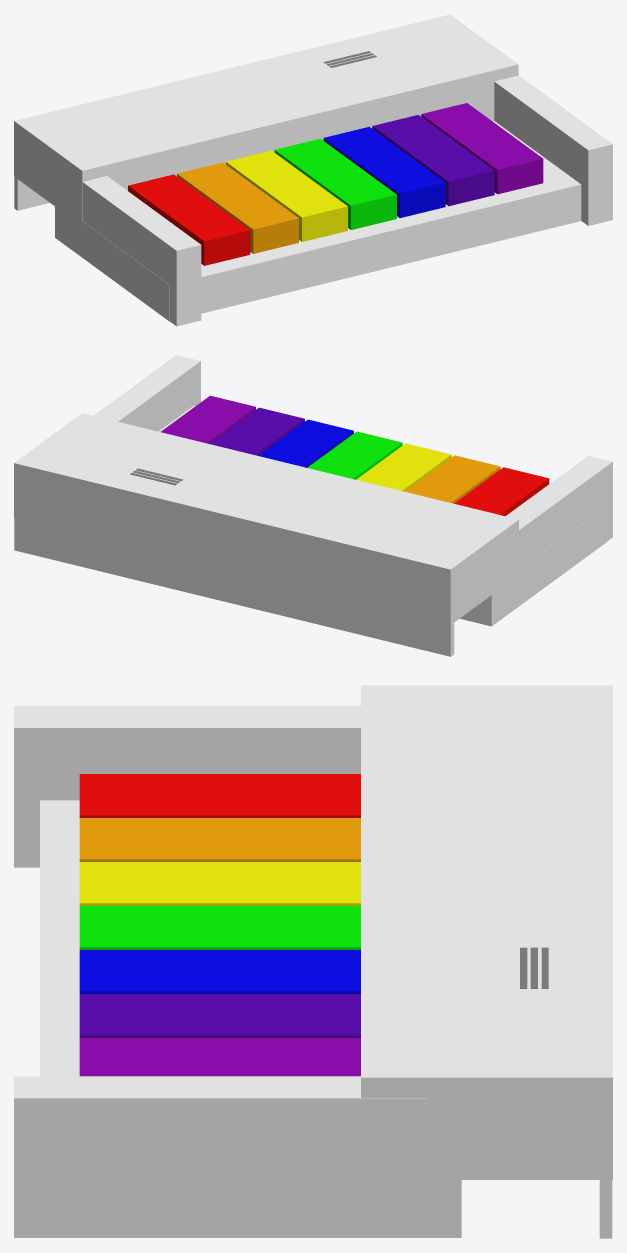
The model's file is Toy Piano.fbx.
The picture shows the model from 3 angles, top to bottom: view 1: azimuth 30°, elevation 25°; view 2: azimuth 150°, elevation 25°; view 3: azimuth 270°, elevation 25°; orthographic projection. The views are drawn at different scales.
Visible parts, largest first — view 1: Side_3; view 2: Side_3; view 3: Side_3.
Part boxes in pixels (bbox=[...]): Side_3: bbox=[14, 14, 612, 326]; Side_3: bbox=[14, 355, 612, 656]; Side_3: bbox=[14, 685, 612, 1238].
Bounding box in the file's own units: 2.5 × 0.4797 × 1.61.
